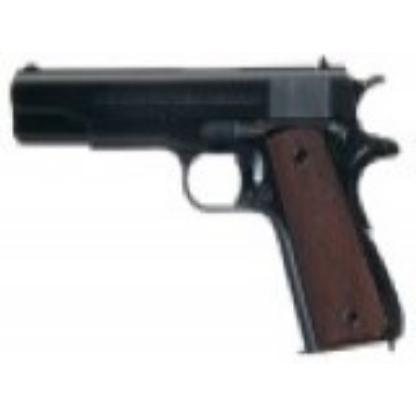gun: (8, 56, 404, 354)
